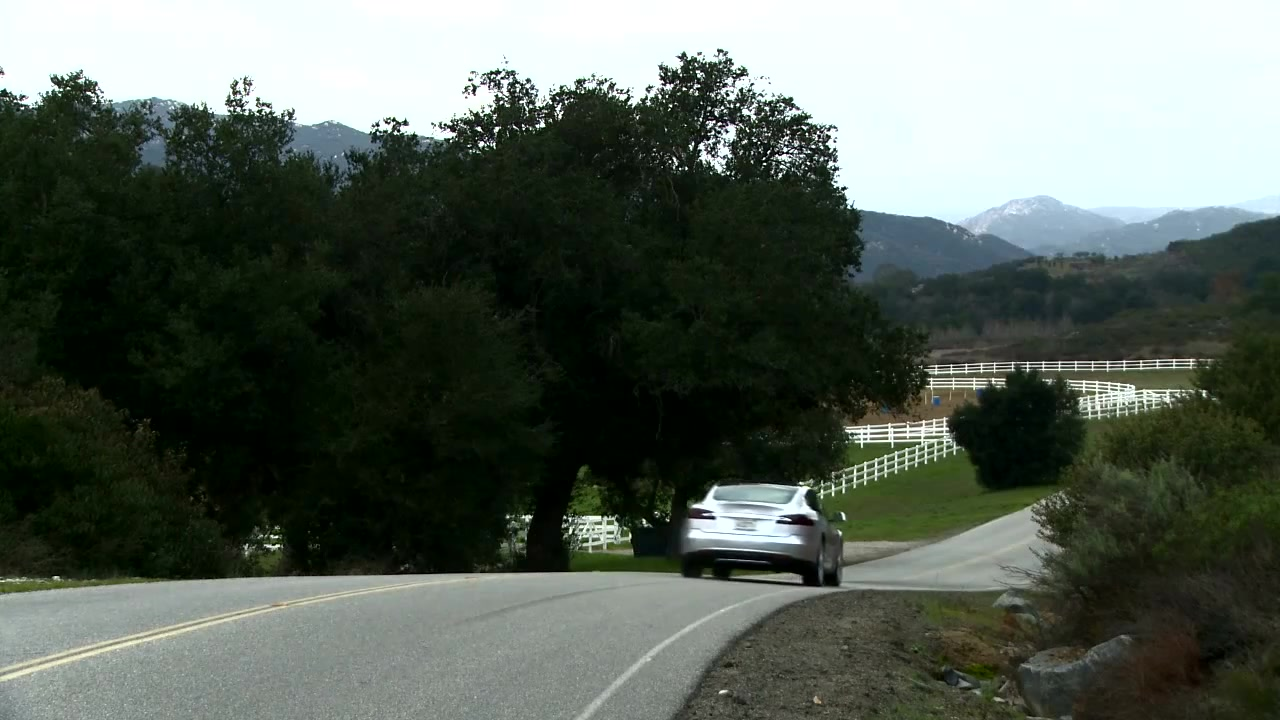car: (674, 479, 850, 591)
